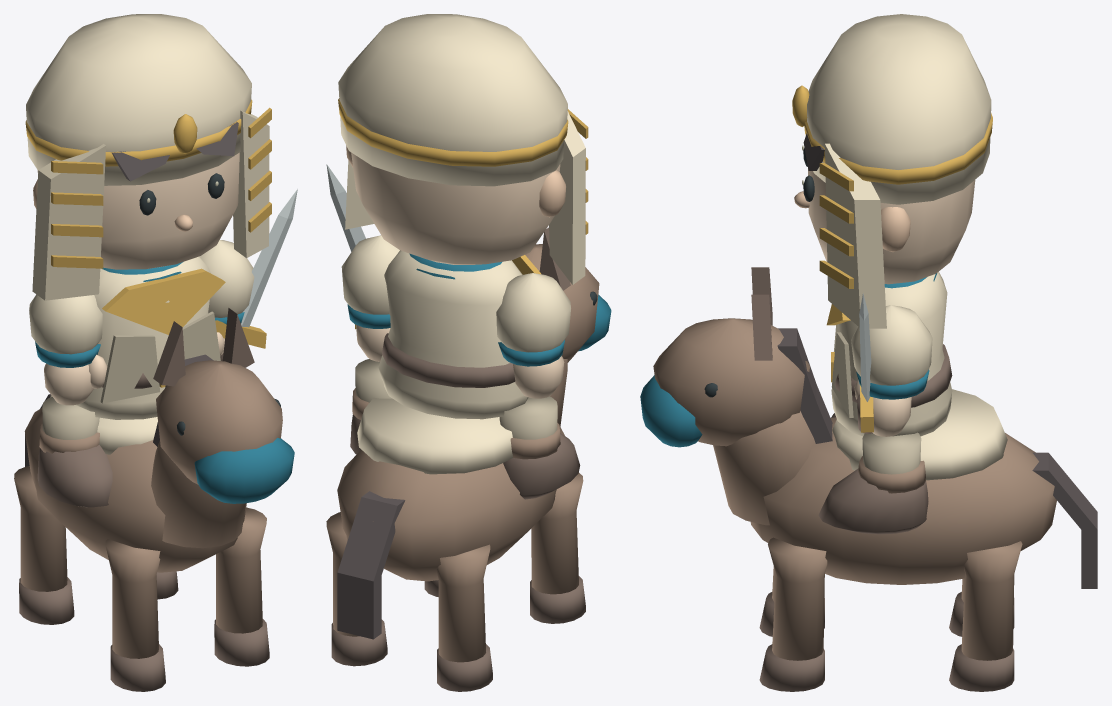
The model's file is rider.glb.
3 views of the same model, side by side, from view 1: azimuth 30°, elevation 25°; view 2: azimuth 150°, elevation 25°; view 3: azimuth 270°, elevation 25° (orthographic). The views are drawn at different scales.
Visible parts, largest first — view 1: Striped nemes crown, Soft cheek head, Pony head, Plump pony body, Nemes shoulder wing, Pony neck, Pony stubby leg, Short folded tunic, Pony stubby leg.001, Pony muzzle, Broad gold collar, Pony stubby leg.002 (+29 smaller); view 2: Striped nemes crown, Short folded tunic, Plump pony body, Soft cheek head, Saddle blanket, Pony tail, Pony stubby leg.002, Puff sleeve, Pony stubby leg, Nemes shoulder wing, Nemes front band, Puff sleeve.001 (+20 smaller); view 3: Striped nemes crown, Plump pony body, Pony head, Nemes shoulder wing.001, Pony neck, Soft cheek head, Saddle blanket, Pony stubby leg.001, Pony stubby leg.003, Short folded tunic, Round leather boot.001, Puff sleeve.001 (+15 smaller).
Part boxes in pixels (x1=…): Striped nemes crown: x1=26, y1=14, x2=251, y2=185; Soft cheek head: x1=37, y1=152, x2=239, y2=269; Pony head: x1=156, y1=360, x2=282, y2=484; Plump pony body: x1=24, y1=408, x2=246, y2=572; Nemes shoulder wing: x1=32, y1=144, x2=105, y2=300; Pony neck: x1=151, y1=440, x2=245, y2=548; Pony stubby leg: x1=105, y1=539, x2=160, y2=658; Short folded tunic: x1=76, y1=256, x2=210, y2=419; Pony stubby leg.001: x1=216, y1=507, x2=266, y2=633; Pony muzzle: x1=194, y1=438, x2=294, y2=503; Broad gold collar: x1=102, y1=268, x2=225, y2=334; Pony stubby leg.002: x1=14, y1=466, x2=67, y2=591; Striped nemes crown: x1=338, y1=14, x2=567, y2=186; Short folded tunic: x1=378, y1=250, x2=528, y2=419; Plump pony body: x1=337, y1=425, x2=564, y2=581; Soft cheek head: x1=351, y1=152, x2=560, y2=264; Saddle blanket: x1=357, y1=397, x2=512, y2=474; Pony tail: x1=337, y1=491, x2=405, y2=639; Pony stubby leg.002: x1=436, y1=544, x2=490, y2=662; Puff sleeve: x1=496, y1=273, x2=570, y2=352; Pony stubby leg: x1=531, y1=472, x2=583, y2=594; Nemes shoulder wing: x1=549, y1=111, x2=585, y2=284; Nemes front band: x1=338, y1=98, x2=568, y2=166; Puff sleeve.001: x1=341, y1=235, x2=399, y2=314; Striped nemes crown: x1=807, y1=14, x2=991, y2=204; Plump pony body: x1=750, y1=417, x2=1056, y2=584; Pony head: x1=653, y1=318, x2=809, y2=446; Nemes shoulder wing.001: x1=825, y1=143, x2=886, y2=328; Pony neck: x1=713, y1=411, x2=815, y2=525; Soft cheek head: x1=808, y1=169, x2=975, y2=284; Saddle blanket: x1=832, y1=389, x2=1007, y2=480; Pony stubby leg.001: x1=768, y1=537, x2=827, y2=660; Pony stubby leg.003: x1=961, y1=541, x2=1022, y2=660; Short folded tunic: x1=831, y1=271, x2=952, y2=436; Round leather boot.001: x1=818, y1=469, x2=928, y2=534; Puff sleeve.001: x1=851, y1=305, x2=932, y2=385.
Size of the model in its own units: 0.9292 by 2.1 by 1.4.
